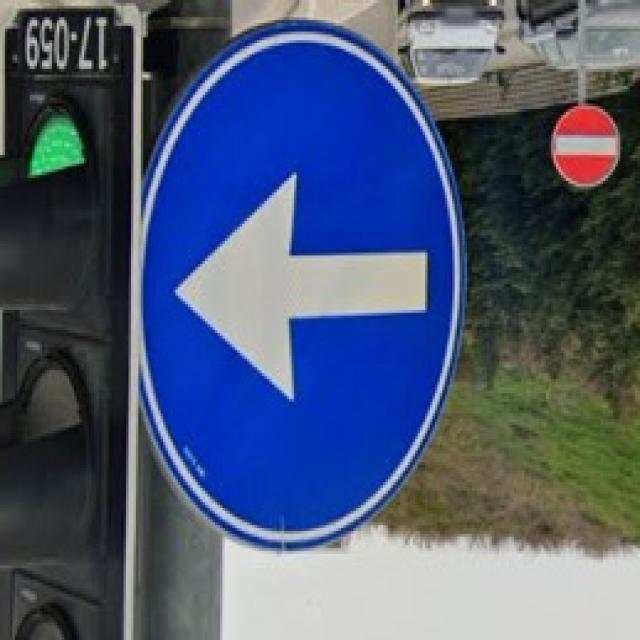Turn Left: (127, 26, 453, 511)
